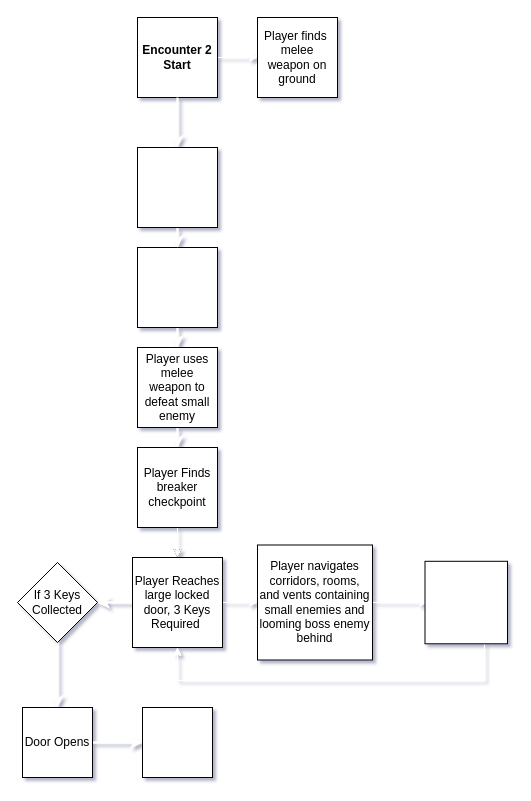
This 531x801 diagram has some shape labels left out. The centre of each missing label's shape, as x and y in pixels:
"End Encounter" belongs at (177,742).
"Opening Cinematic introducing on small enemy" belongs at (177,287).
"Player finds 3 keys" belongs at (466,602).
"Prompt user to pick up melee weapon" belongs at (177,187).
